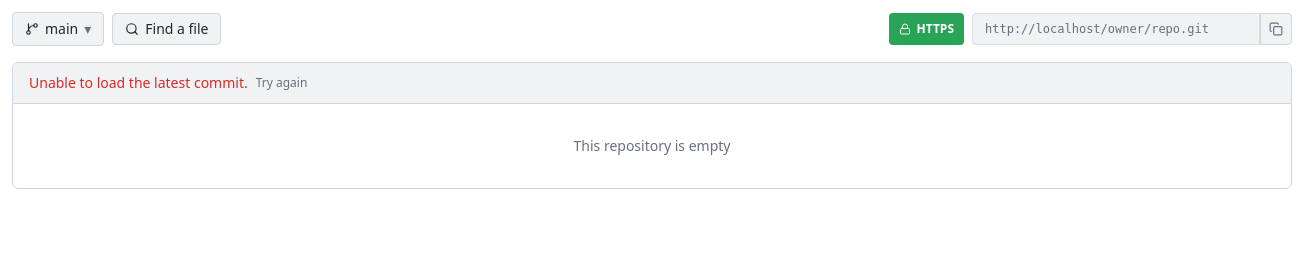
Test: Source loading › keeps the file list and offers retry when commit metadata fails
Expected: the message shows "Unable to load the latest commit", [29,73,248,92]
Expected: the element with test id "file-tree" is shown, [12,62,1292,189]
Step 1. Click the button "Try again" → {"x": 282, "y": 83}, box [256,75,307,91]
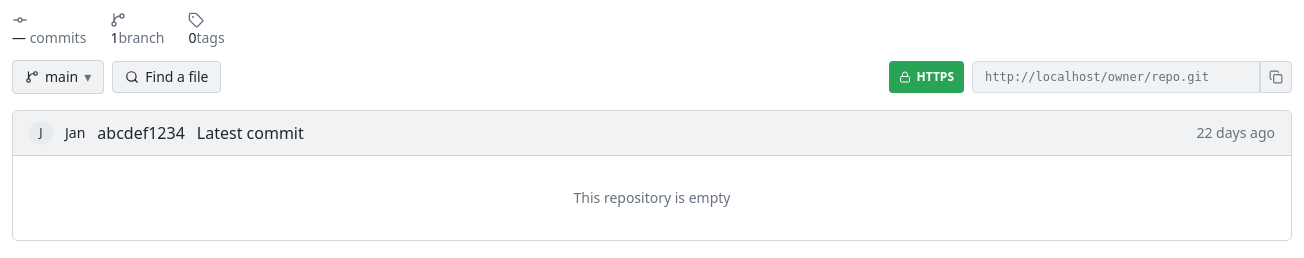
Result: the link with test id "last-commit-sha" reads "abcdef1234" at [97,121,185,145]
Result: the message "Unable to load the latest commit. Try again" is gone
